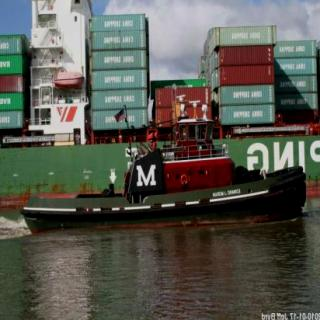Tug Boat: (15, 53, 316, 224)
